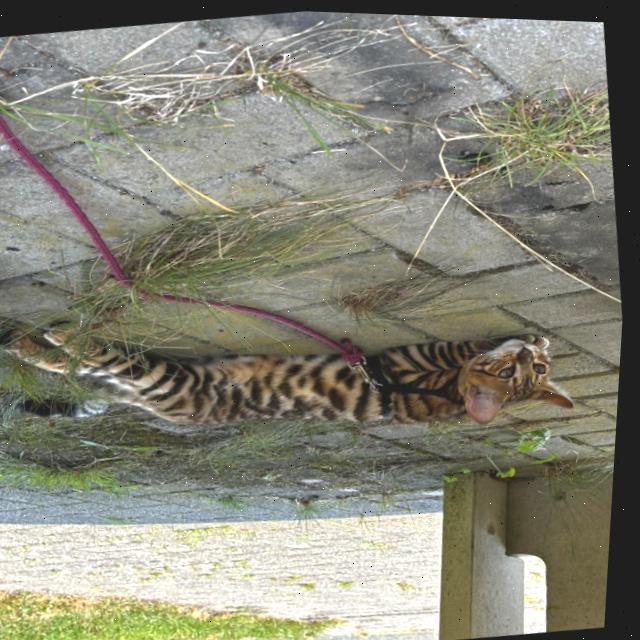Toyger: (0, 251, 593, 486)
